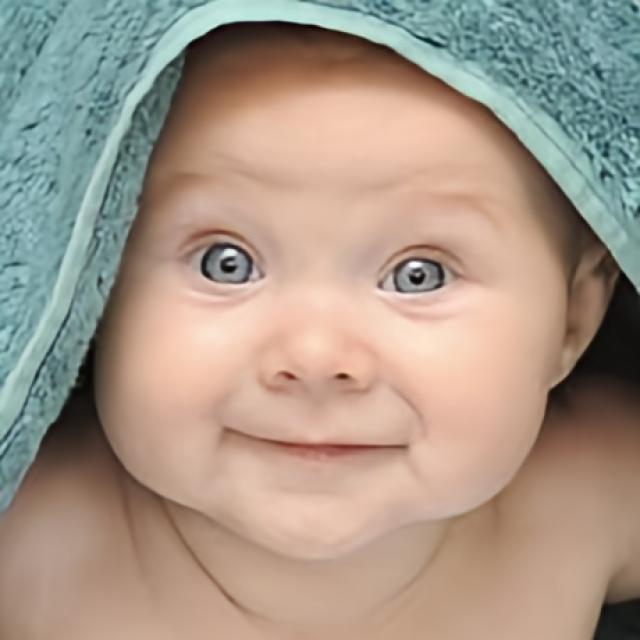surprise: (90, 19, 568, 564)
